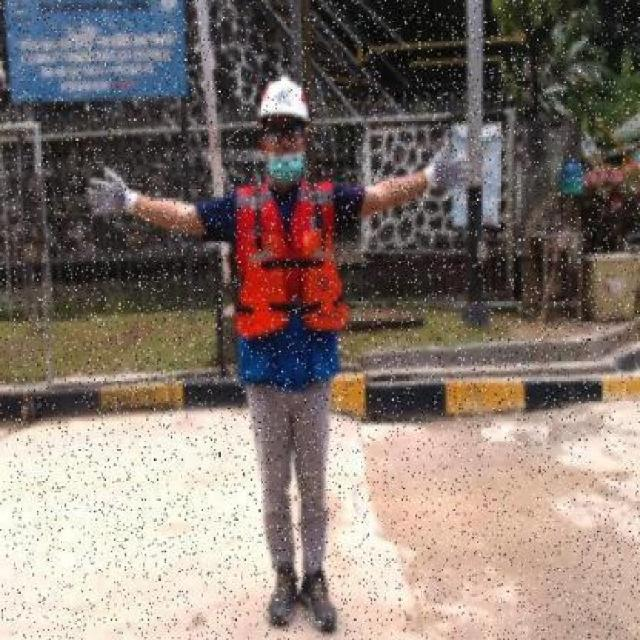Boots: (298, 570, 338, 633), (268, 560, 300, 628)
Gloves: (87, 165, 139, 222), (426, 141, 474, 199)
Helmet: (258, 72, 312, 120)
Mask: (268, 148, 302, 187)
Protective Glasses: (266, 122, 303, 143)
Vest: (232, 232, 350, 336)
